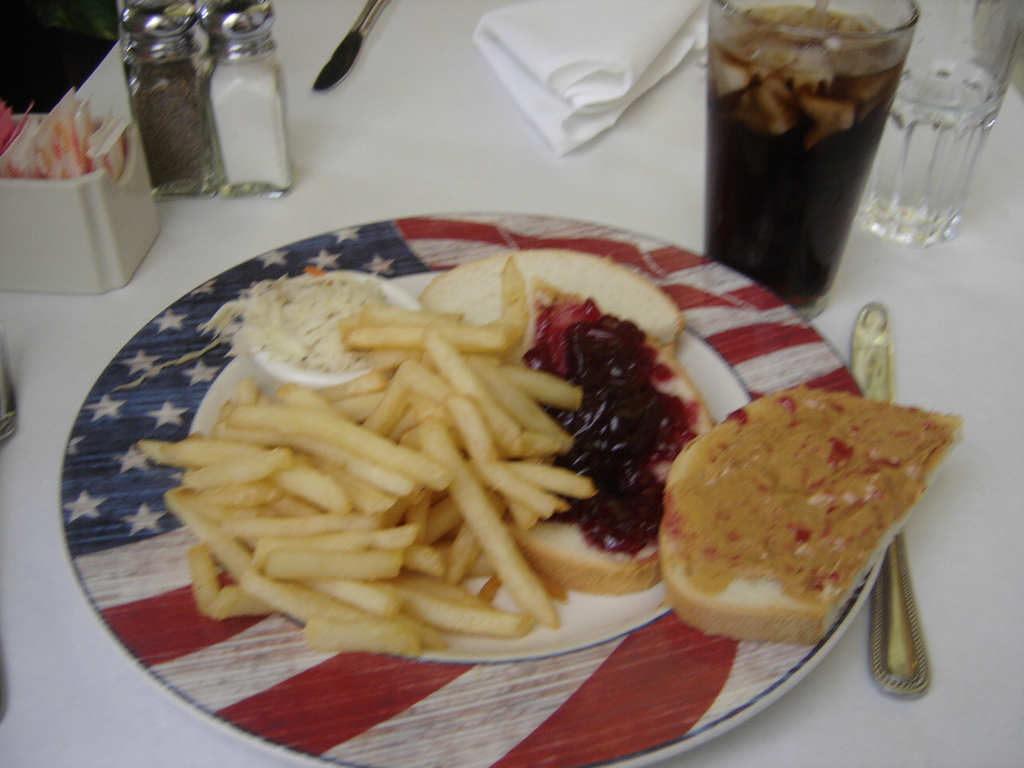French fries: (135, 261, 604, 666)
